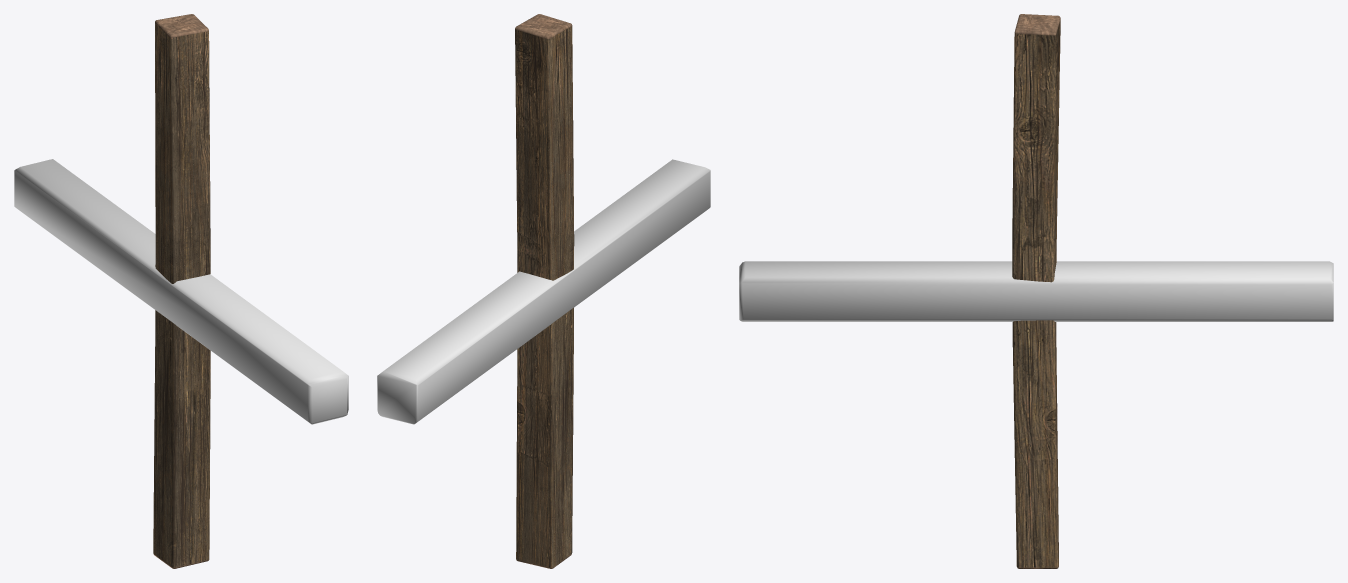
The model's file is SM_Small_Beam_A_v2_.fbx.
3 views of the same model, side by side, from view 1: azimuth 30°, elevation 25°; view 2: azimuth 150°, elevation 25°; view 3: azimuth 270°, elevation 25° (orthographic).
Parts seen in each view (by area): view 1: SM_Small_Beam_A_v2_, SM_Small_Beam_A_v2__ConvexHulls; view 2: SM_Small_Beam_A_v2_, SM_Small_Beam_A_v2__ConvexHulls; view 3: SM_Small_Beam_A_v2__ConvexHulls, SM_Small_Beam_A_v2_.
Part boxes in pixels (x1,y1,x2,y2): SM_Small_Beam_A_v2_: (153, 14, 210, 568); SM_Small_Beam_A_v2__ConvexHulls: (14, 159, 348, 424); SM_Small_Beam_A_v2_: (515, 14, 574, 568); SM_Small_Beam_A_v2__ConvexHulls: (377, 159, 710, 424); SM_Small_Beam_A_v2__ConvexHulls: (739, 261, 1333, 321); SM_Small_Beam_A_v2_: (1012, 14, 1060, 568).
Size of the model in its own units: 0.1042 by 1.28 by 1.29.
